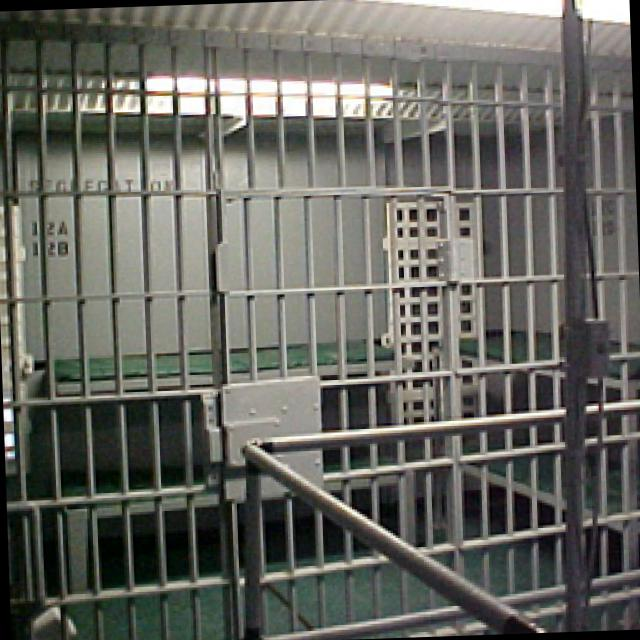bars: (0, 15, 631, 640)
berth: (43, 425, 443, 519), (36, 329, 429, 397), (455, 435, 640, 536), (434, 328, 640, 389)
floor -X: (9, 488, 640, 640)
lock: (197, 375, 324, 499)
wall clock: (0, 131, 469, 536), (461, 114, 640, 561), (414, 0, 627, 24)
